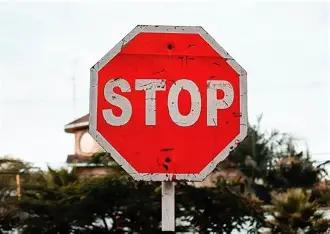Stop: (96, 33, 239, 172)
